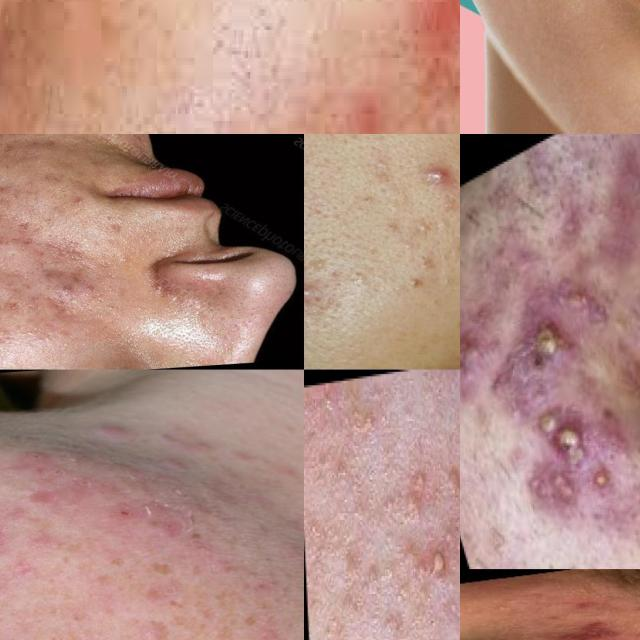comedone: (9, 434, 58, 474), (79, 417, 129, 443), (58, 280, 84, 298), (536, 612, 572, 623), (486, 602, 518, 613), (532, 602, 559, 611)
milium: (128, 293, 159, 319)
papule: (406, 458, 434, 521)
pustule: (416, 145, 460, 193), (425, 536, 458, 585), (304, 260, 327, 318)
sebo-crystan-conglo: (506, 388, 640, 548), (474, 299, 600, 432), (460, 253, 475, 413)
